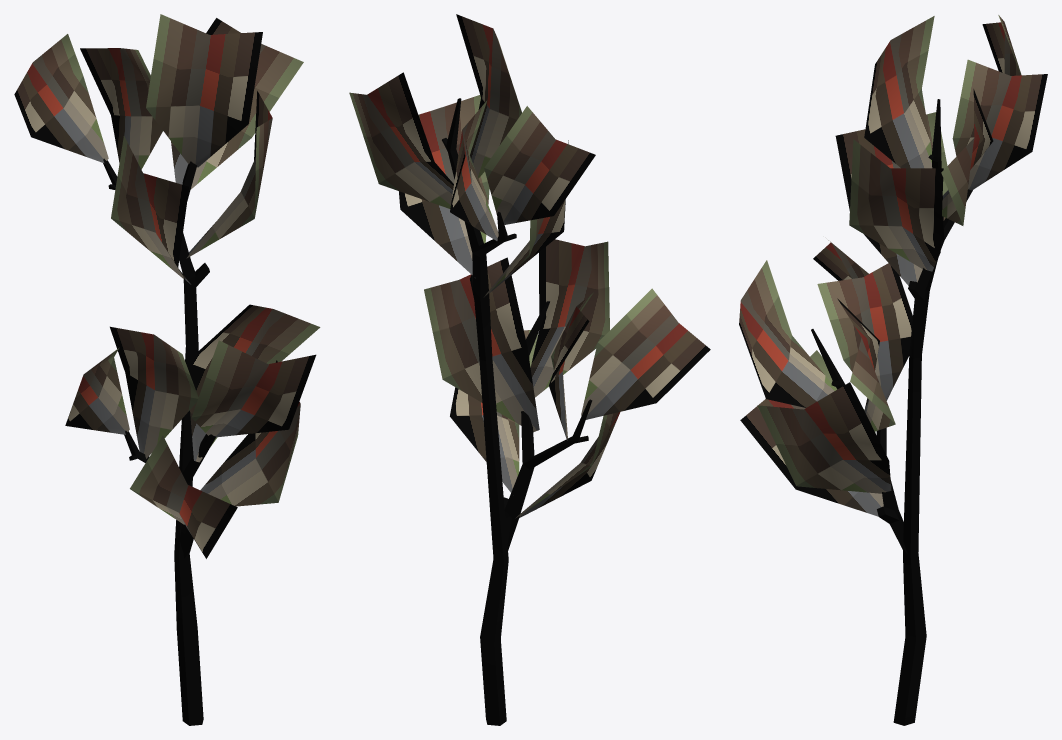
File: SM_Tree_Dead_02_LOD_01.fbx
The picture shows the model from 3 angles, left to right: view 1: azimuth 30°, elevation 25°; view 2: azimuth 150°, elevation 25°; view 3: azimuth 270°, elevation 25°; orthographic projection.
Visible parts, largest first — view 1: SM_Tree_Dead_02_LOD_01; view 2: SM_Tree_Dead_02_LOD_01; view 3: SM_Tree_Dead_02_LOD_01.
Part boxes in pixels (<box>): SM_Tree_Dead_02_LOD_01: <box>14,14,320,725</box>; SM_Tree_Dead_02_LOD_01: <box>349,14,710,725</box>; SM_Tree_Dead_02_LOD_01: <box>739,15,1047,725</box>.
Size of the model in its own units: 119 by 266 by 107.
1 material, 1 textured.
